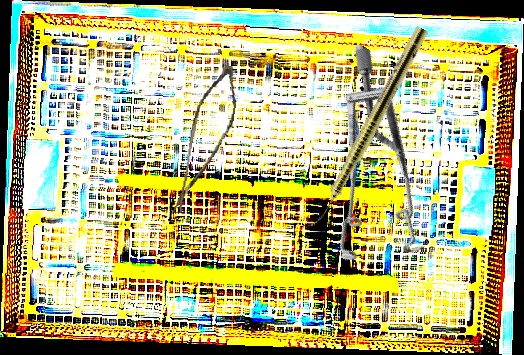Handpiece: (307, 24, 430, 233)
Micro Scissor: (172, 60, 242, 222)
Speculum: (264, 43, 495, 290)
